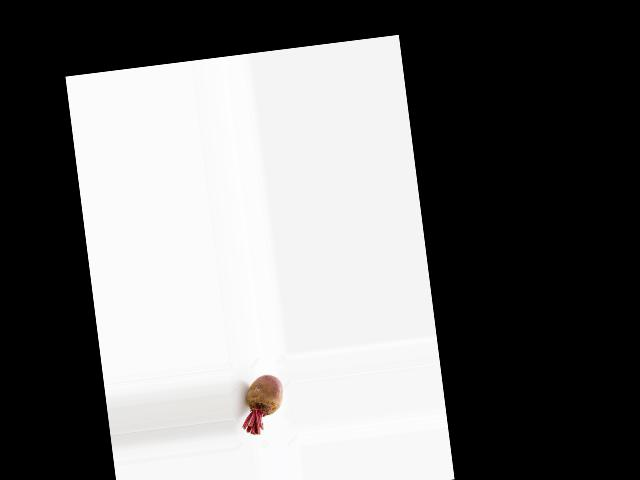beet: (235, 372, 287, 436)
